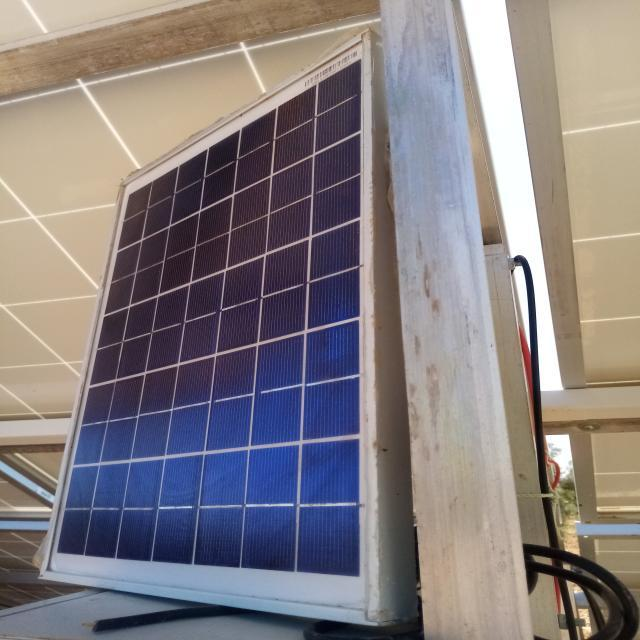no faulty: (41, 35, 371, 619)
